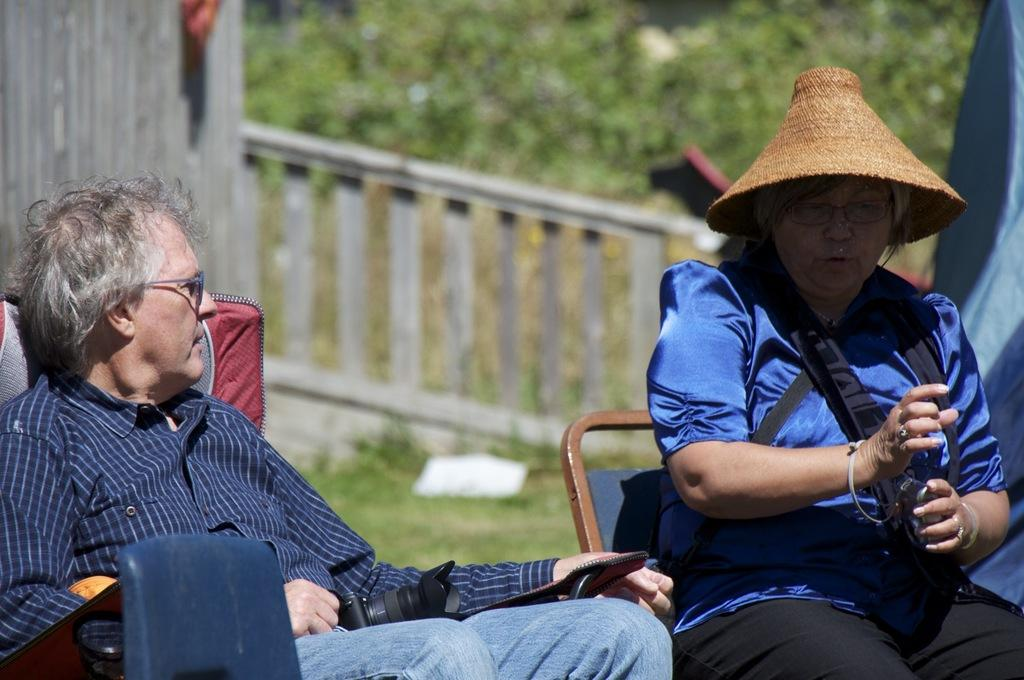Hat: (702, 66, 963, 245)
